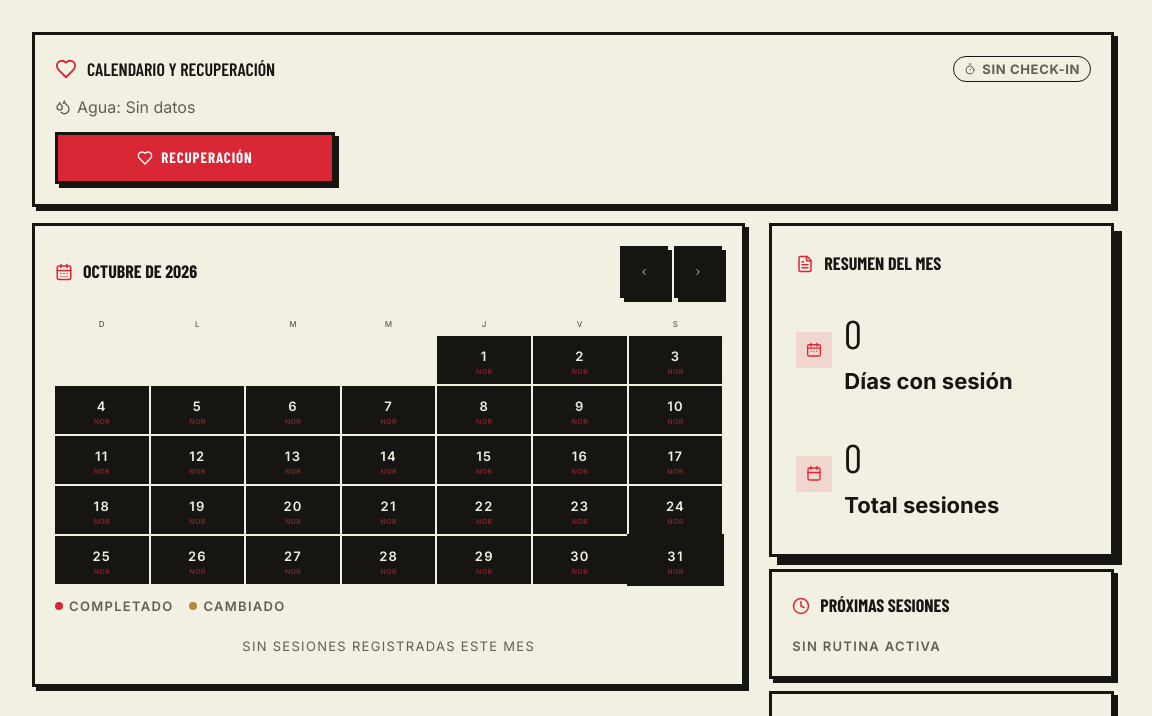
Test: FASE 1.6 — Calendario lee Recovery solo desde Dexie › dato real en Dexie se muestra
This screenshot has width=1152, height=716.
Expected: the heading "Calendario y recuperación" is shown, [87, 55, 275, 83]
Click the button "31 Nor" at (676, 560), box [629, 536, 722, 584]
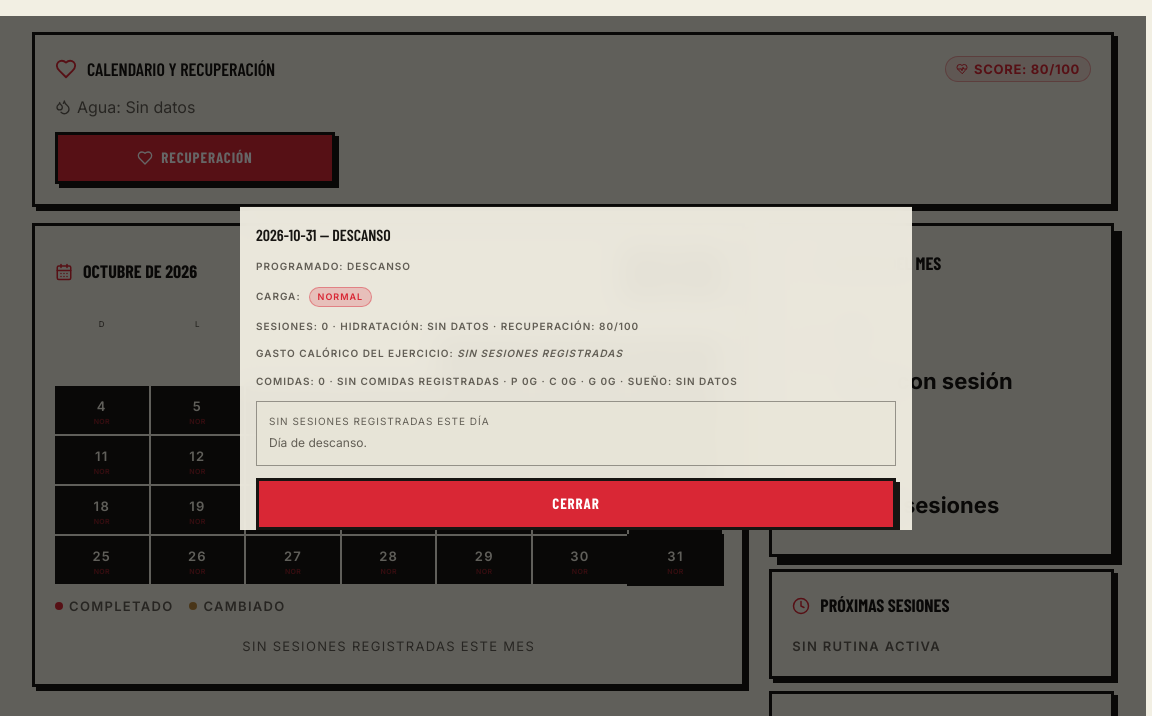
Result: the text "Score: 80/100" is shown at [945, 56, 1091, 82]
